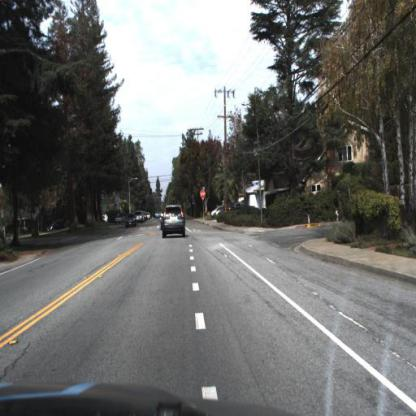car: (161, 205, 188, 241), (45, 218, 72, 233), (226, 198, 250, 214), (46, 217, 67, 233), (125, 212, 139, 233), (135, 210, 146, 226)
